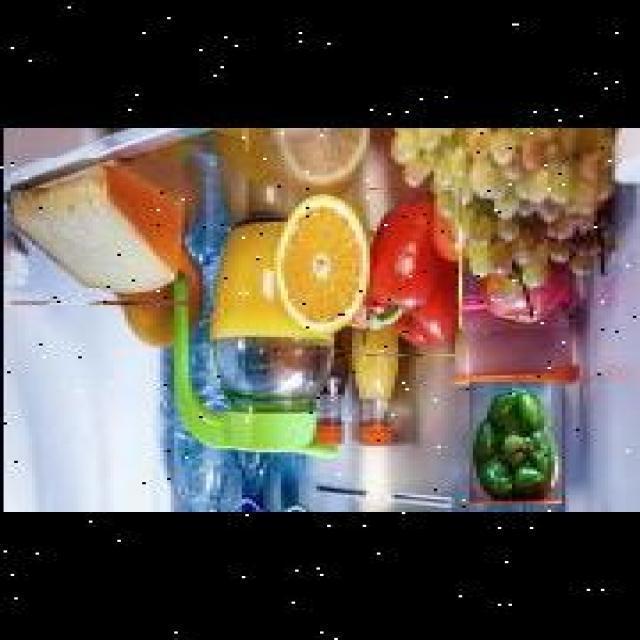bell_pepper: (357, 188, 457, 354), (466, 379, 558, 502)
cheese: (7, 158, 185, 303)
